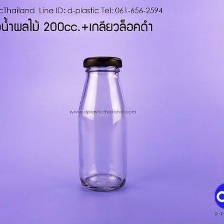bottle: (74, 54, 135, 195)
